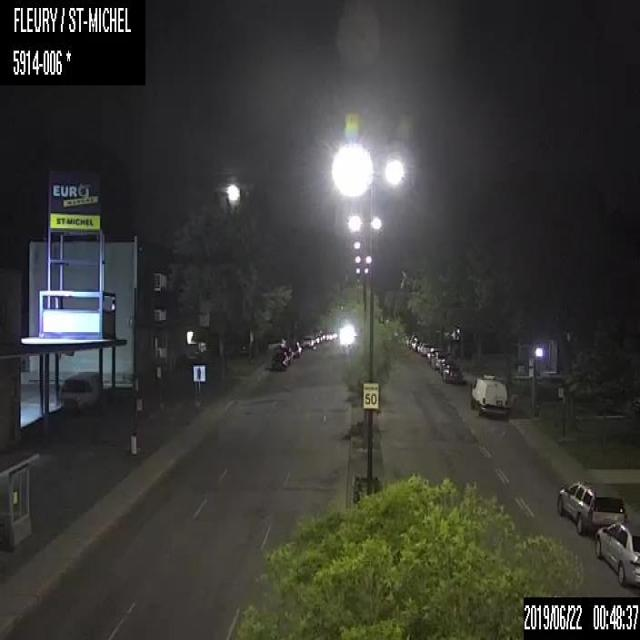vehicle: (557, 480, 625, 536), (595, 522, 639, 586), (469, 372, 509, 417), (57, 371, 98, 410), (443, 363, 462, 384), (430, 351, 450, 368), (271, 351, 287, 369), (426, 346, 442, 363), (266, 337, 285, 350), (439, 357, 452, 373), (300, 334, 314, 347), (280, 346, 292, 361), (290, 341, 301, 356), (420, 342, 431, 355)
